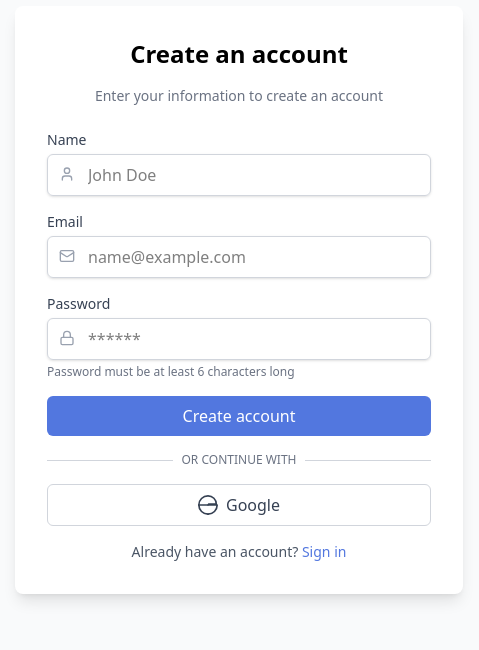
Test case: SignupPage › shows an error if password is too short
Type "Test User" into the field with placeholder "John Doe" at (239, 175), box [47,154,431,196]
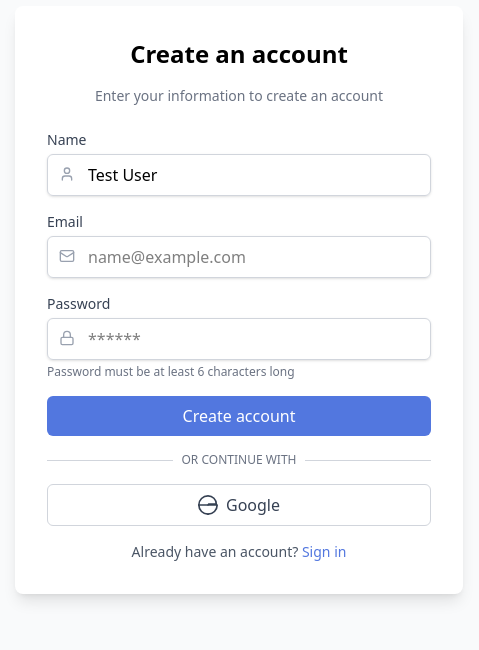
Type "test@example.com" into the field with placeholder "name@example.com" at (239, 257), box [47,236,431,278]
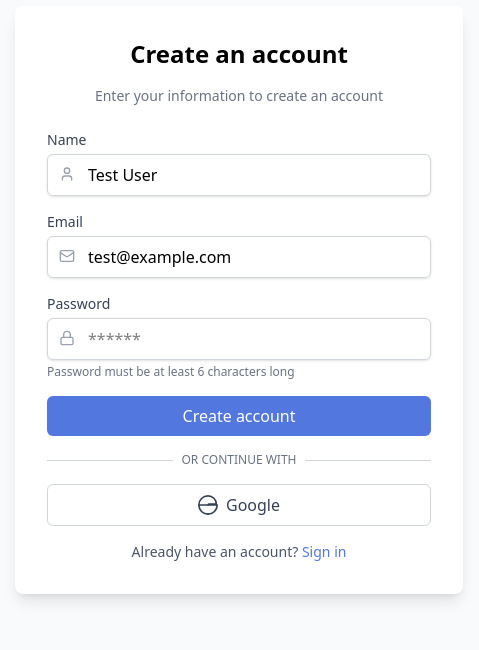
Type "123" into the password field with placeholder "******" at (239, 339), box [47,318,431,360]
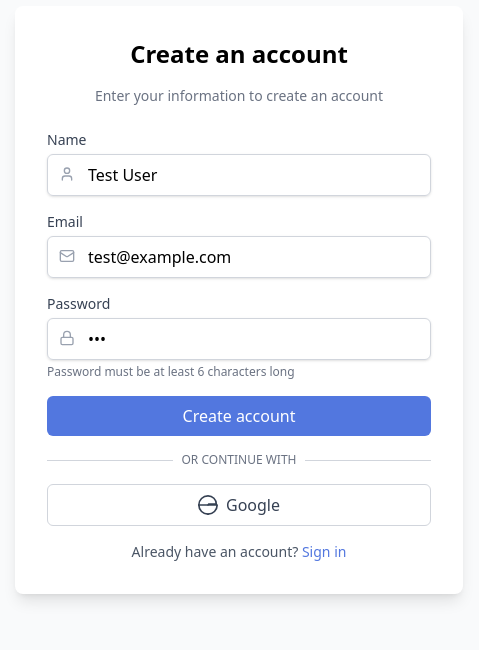
Click the button "Create account" at (239, 416), box [47,396,431,436]
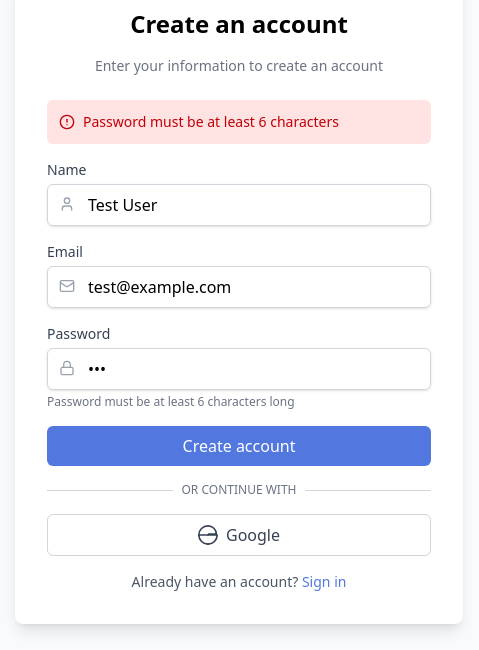
Now the text "Password must be at least 6 characters" is shown, box [83,112,339,132]
